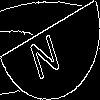N: (25, 24, 62, 81)
